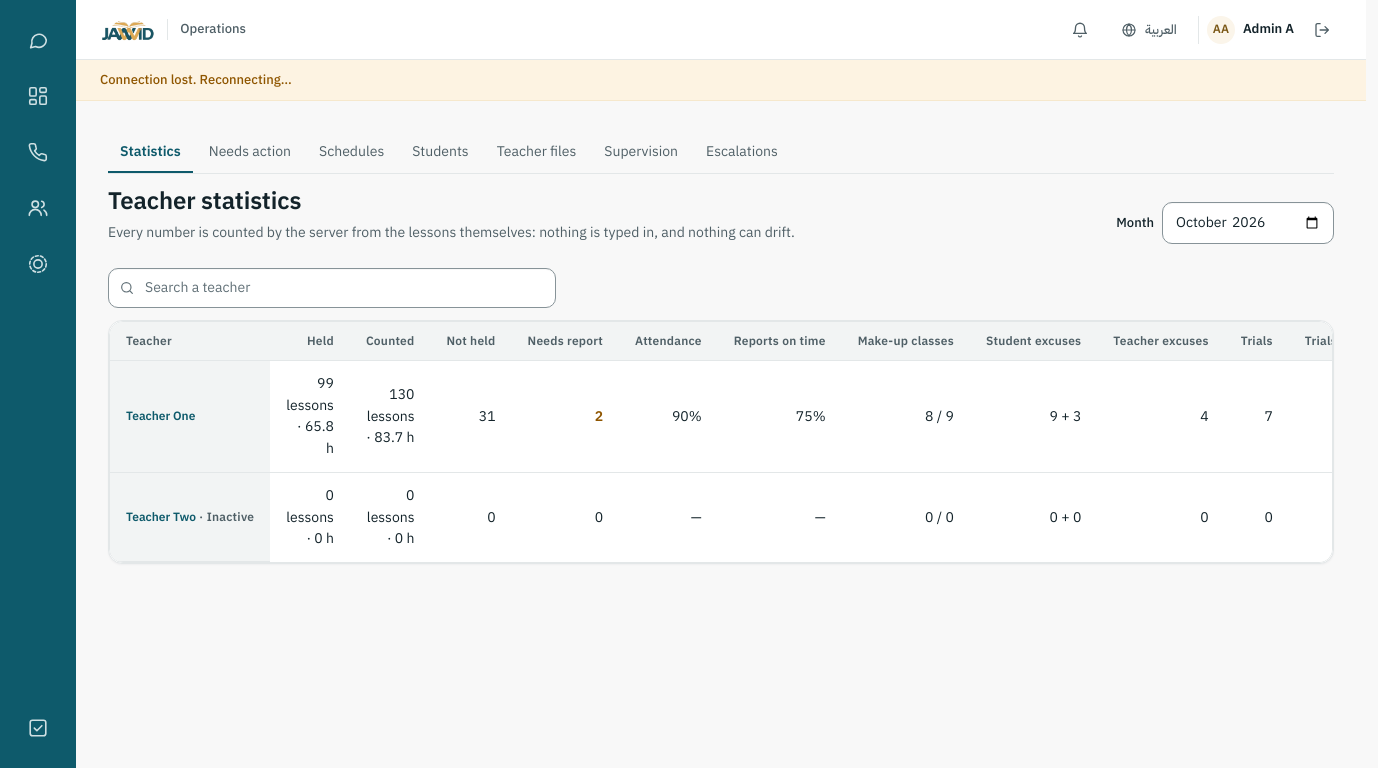
Test: the statistics › opens one teacher: category cards broken down by length, like the Core dashboard, and what only Chat knows
What coordinates should you click on to do the following:
click the button "Teacher One"
I would click on:
 (161, 416)
Its box is top-left (126, 407), bottom-right (195, 426).
(page scrolled)
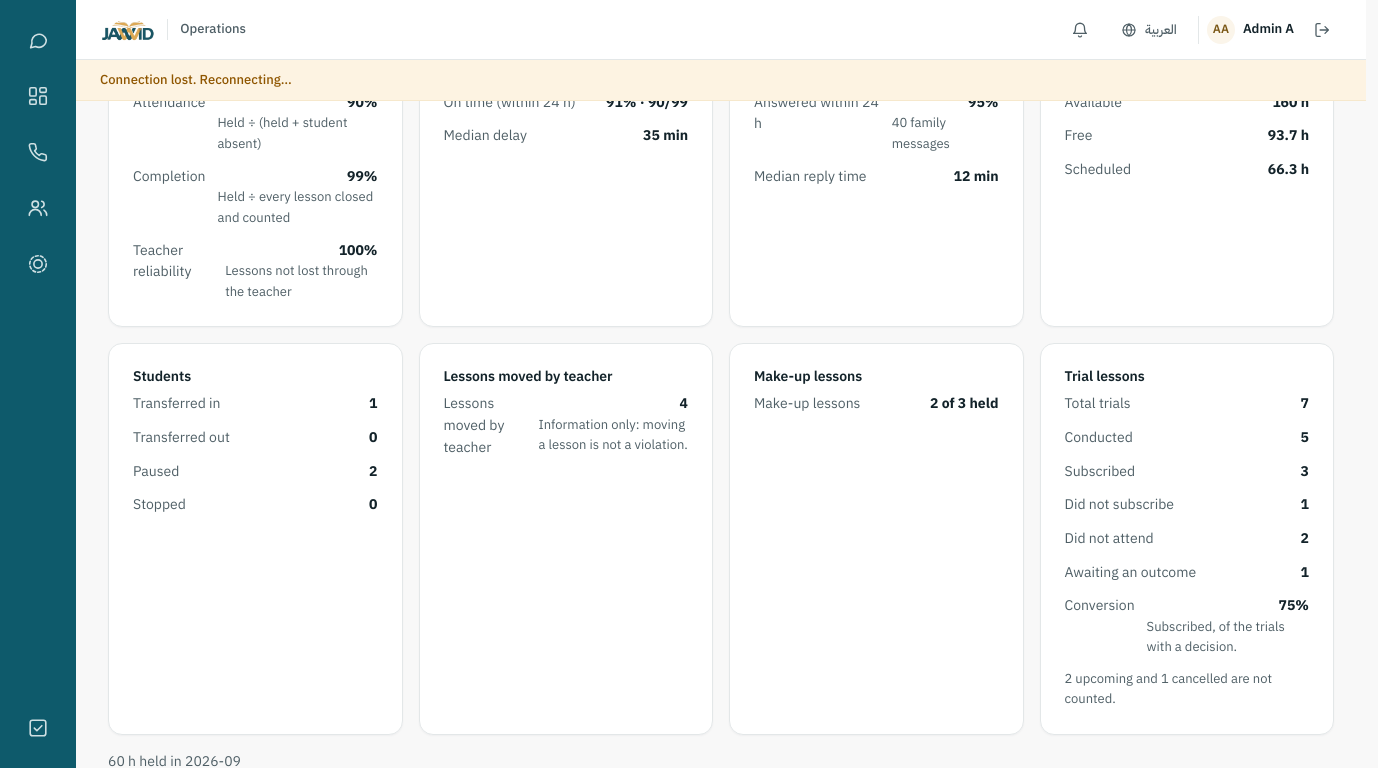
Expected: the text "5" is shown, top-left (1301, 427), bottom-right (1309, 449)
Expected: the text "3" is shown, top-left (1301, 461), bottom-right (1309, 482)
Expected: the text "1" next to "Did not subscribe" is shown, top-left (1301, 494), bottom-right (1309, 515)
